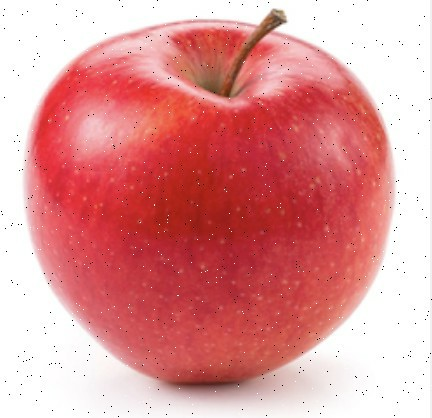fresh_apple: (22, 22, 395, 387)
